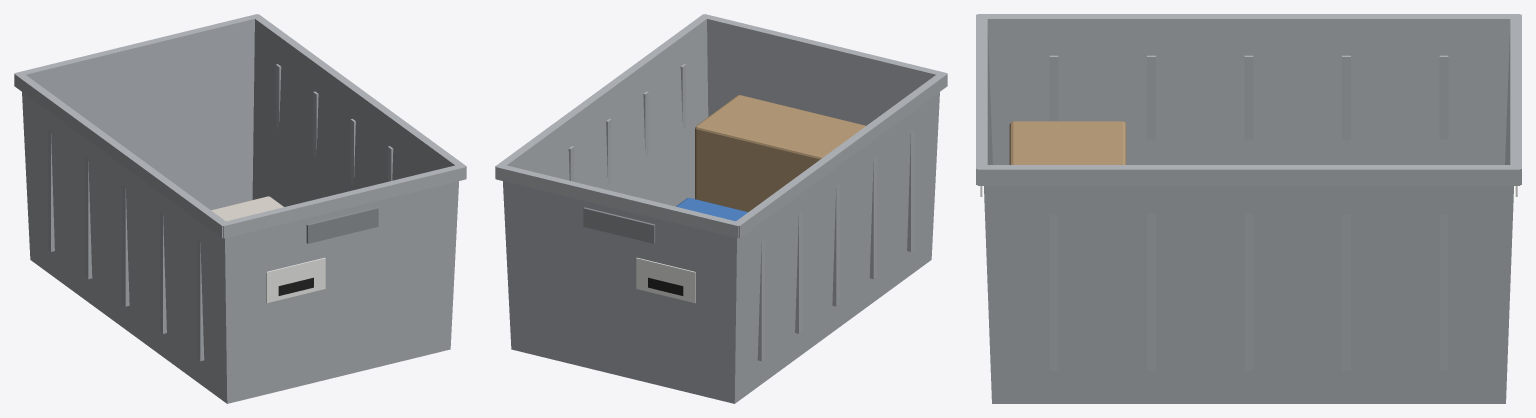
Rendered from haipick_tote_v1.glb.
3 views of the same model, side by side, from view 1: azimuth 30°, elevation 25°; view 2: azimuth 150°, elevation 25°; view 3: azimuth 270°, elevation 25° (orthographic). The views are drawn at different scales.
Parts seen in each view (by area): view 1: HaiTote_v1; view 2: HaiTote_v1; view 3: HaiTote_v1.
Part boxes in pixels (left/top/right/bottom): HaiTote_v1: left=14, top=14, right=466, bottom=403; HaiTote_v1: left=495, top=14, right=947, bottom=403; HaiTote_v1: left=976, top=14, right=1521, bottom=403.
Size of the model in its own units: 0.416 by 0.3 by 0.616.
